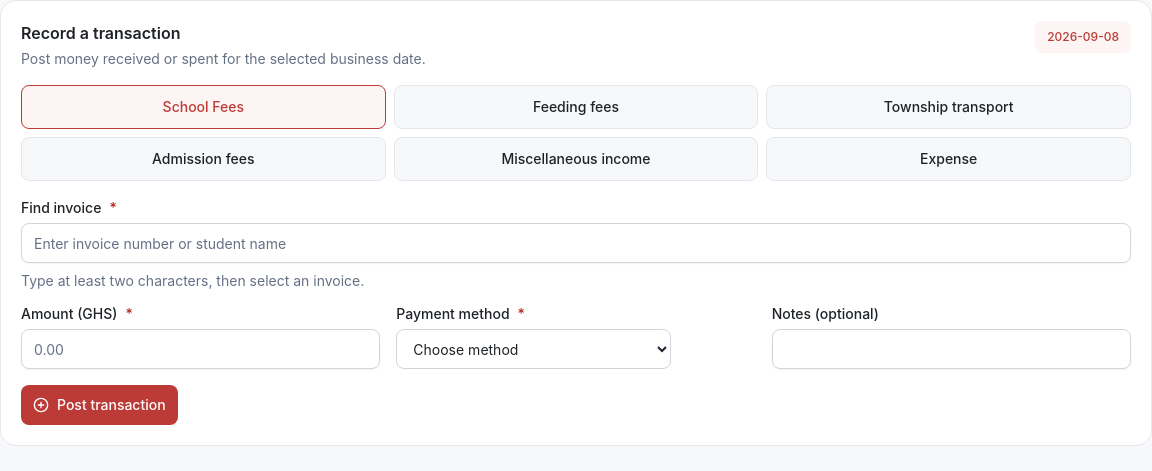
Test case: daily cashflow entry › ignores a late response for an earlier search
The image size is (1152, 471).
Type "Earlier" into the dropdown labelled "Find invoice *" at (576, 243), box x1=21 y1=223 x2=1131 y2=263
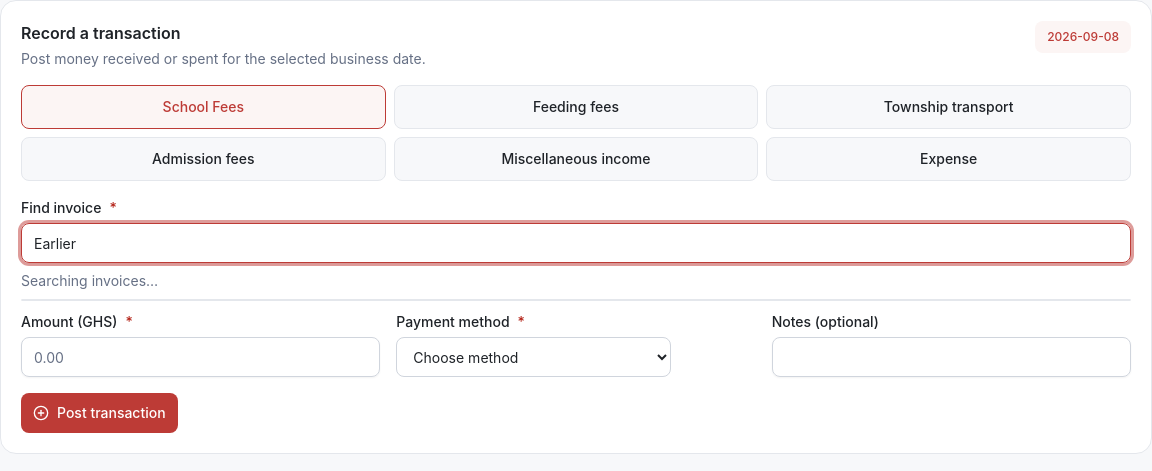
Replace the text in the dropdown labelled "Find invoice *" with "Latest" at (576, 243), box x1=21 y1=223 x2=1131 y2=263
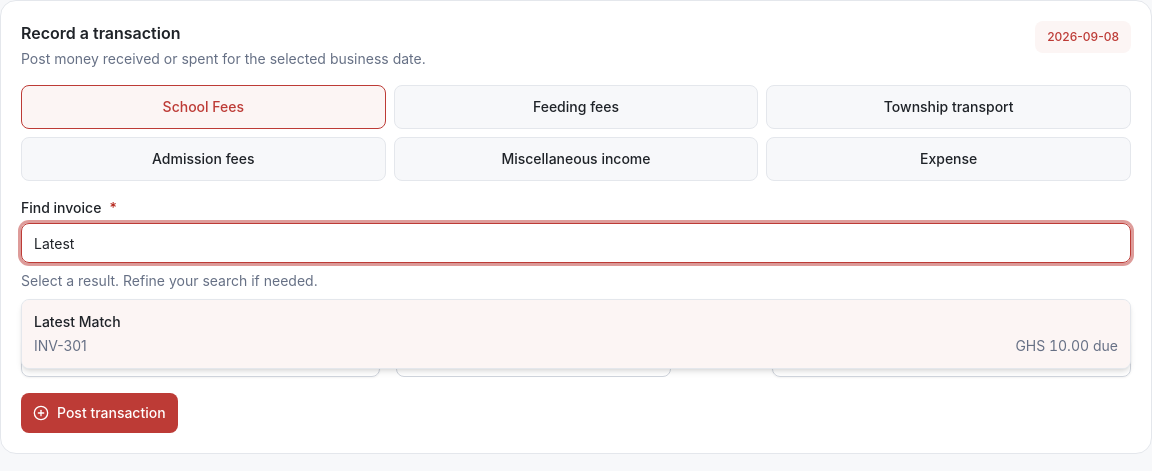
Expected: the option "Latest Match INV-301 GHS 10.00 due" is shown, x1=22 y1=300 x2=1130 y2=368
